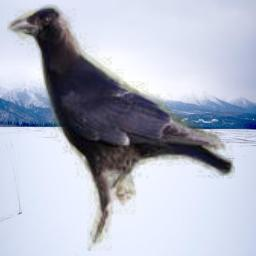Crow: (7, 4, 235, 251)
